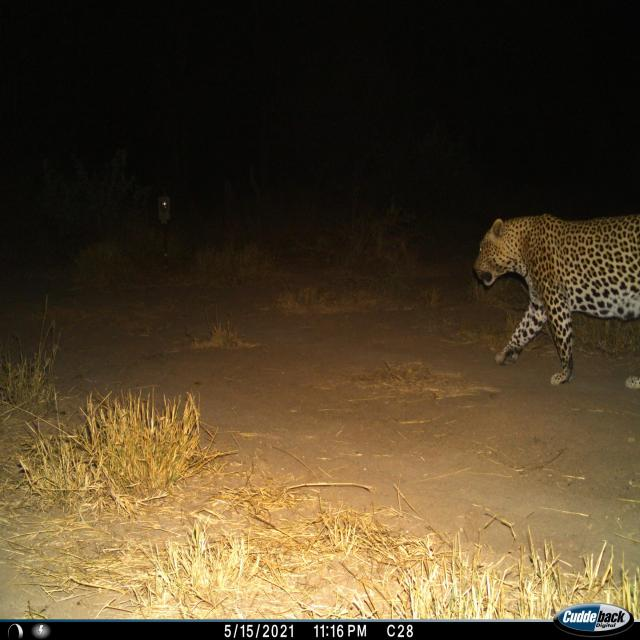Leopard: (471, 203, 636, 398)
